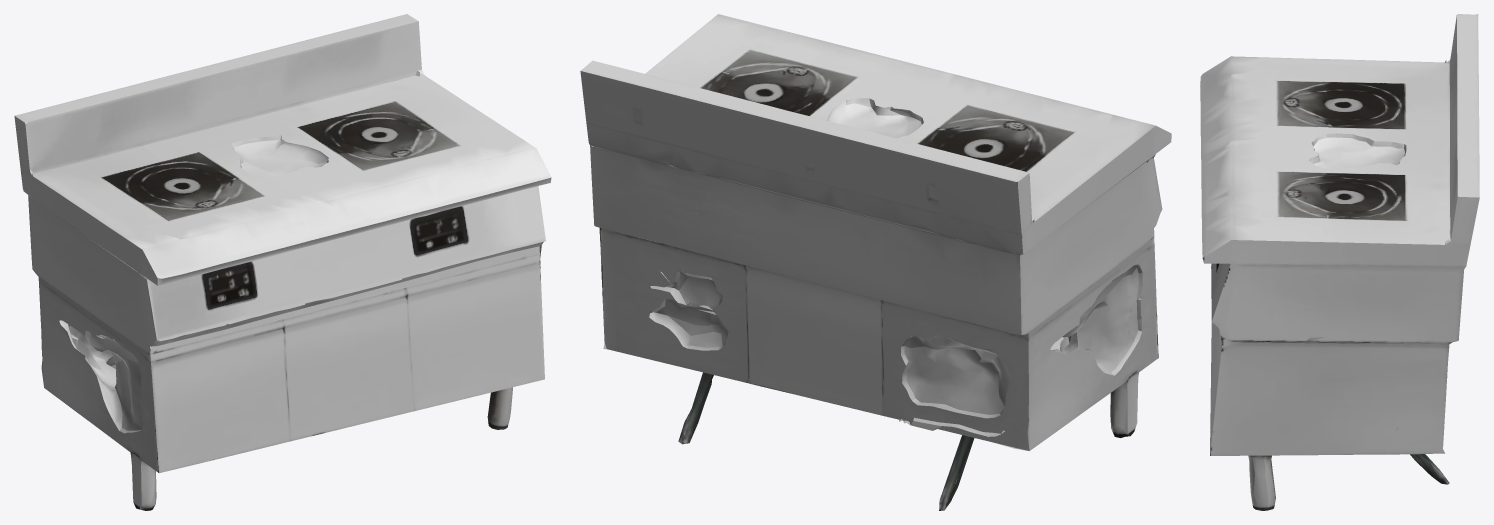
The picture shows the model from 3 angles, left to right: view 1: azimuth 30°, elevation 25°; view 2: azimuth 150°, elevation 25°; view 3: azimuth 270°, elevation 25°; orthographic projection. The views are drawn at different scales.
Size of the model in its own units: 1.2 by 0.97 by 0.7501.
1 material, 1 textured.
